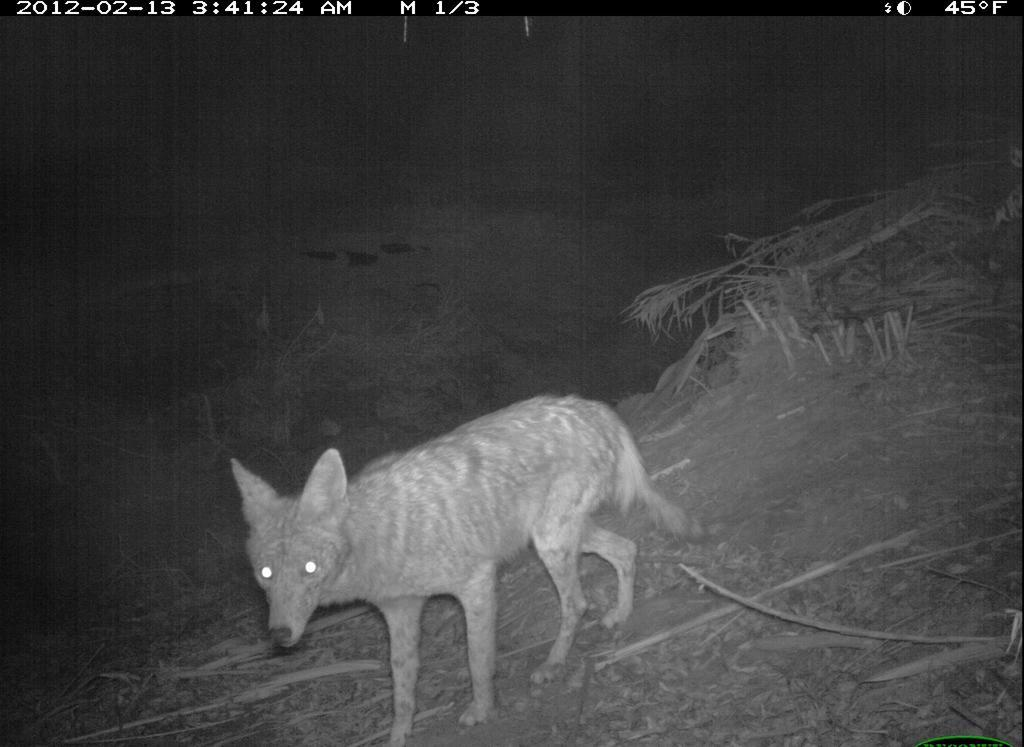coyote: (221, 386, 726, 747)
